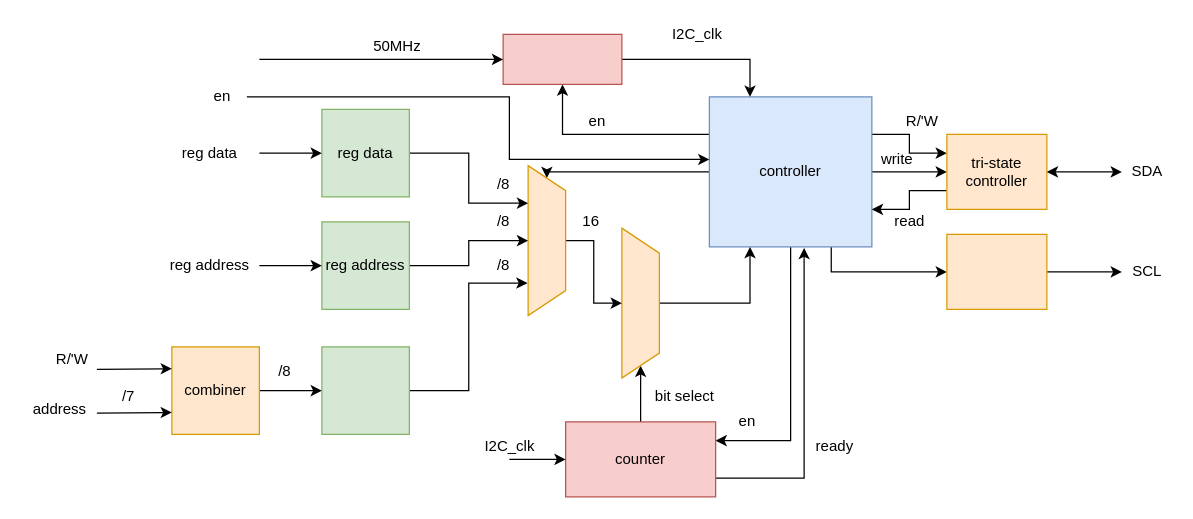
The diagram is 1193 pixels wide and 519 high, and some of its shapes have lost their labels. The shapes that lost their labels are listed below. From the top down, each one's centre as x and y in pixels, then its label:
(562,58): clk_div
(996,271): open-drain output
(365,390): addr reg
